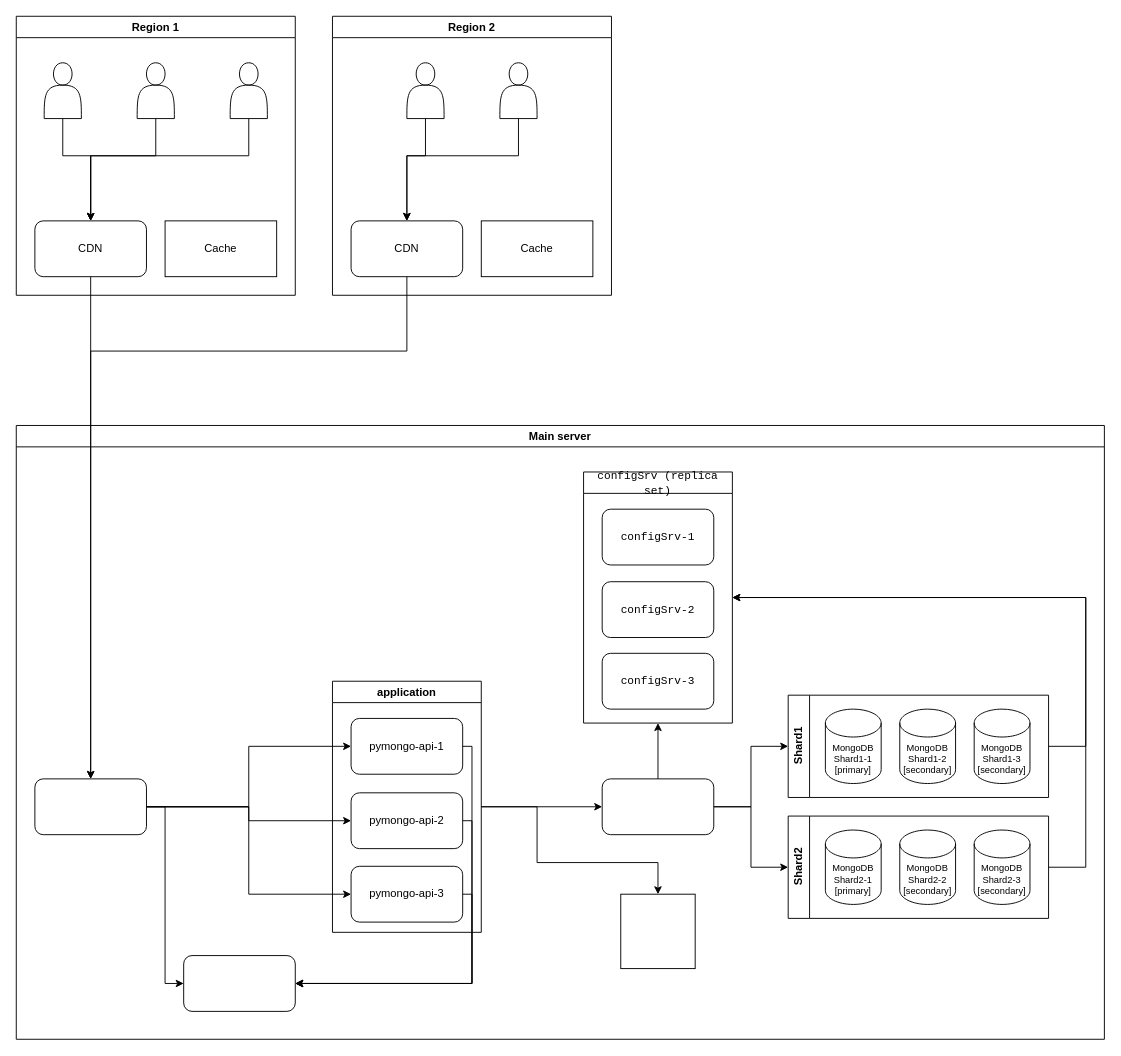
The diagram is 1121 pixels wide and 1056 high, and some of its shapes have lost their labels. Each missing label, with the centre of its shape:
"API Gateway" goes at (x=90, y=806).
"Consul" goes at (x=239, y=983).
"mongos_router" goes at (x=657, y=806).
"redis" goes at (x=657, y=931).
